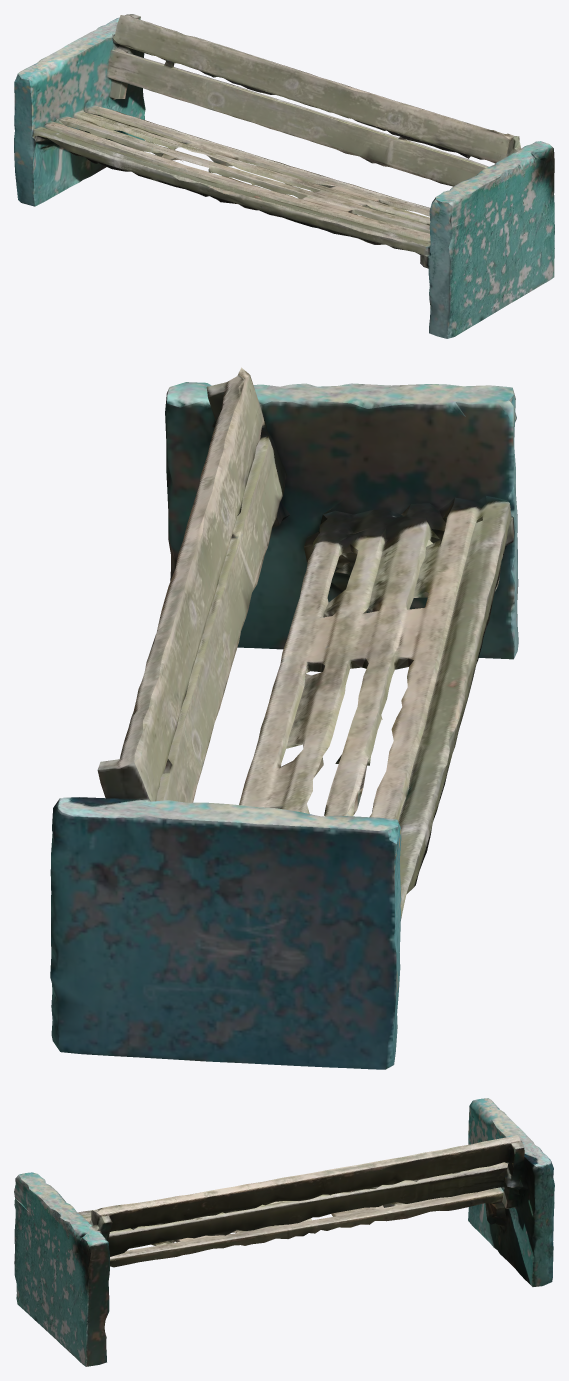
The model's file is sf-old-bench-3d-scan-free-73fbd8.glb.
3 views of the same model, one above another, from view 1: azimuth 30°, elevation 25°; view 2: azimuth 150°, elevation 25°; view 3: azimuth 270°, elevation 25° (orthographic). The views are drawn at different scales.
Parts seen in each view (by area): view 1: meshNode_Material_u1_v1_0; view 2: meshNode_Material_u1_v1_0; view 3: meshNode_Material_u1_v1_0.
Boxes of the visible parts, x1=… form: meshNode_Material_u1_v1_0: x1=14, y1=14, x2=554, y2=338; meshNode_Material_u1_v1_0: x1=50, y1=367, x2=518, y2=1069; meshNode_Material_u1_v1_0: x1=14, y1=1098, x2=554, y2=1366.
Size of the model in its own units: 1377 by 590 by 2066.
Materials: 1 (1 with a texture image).
